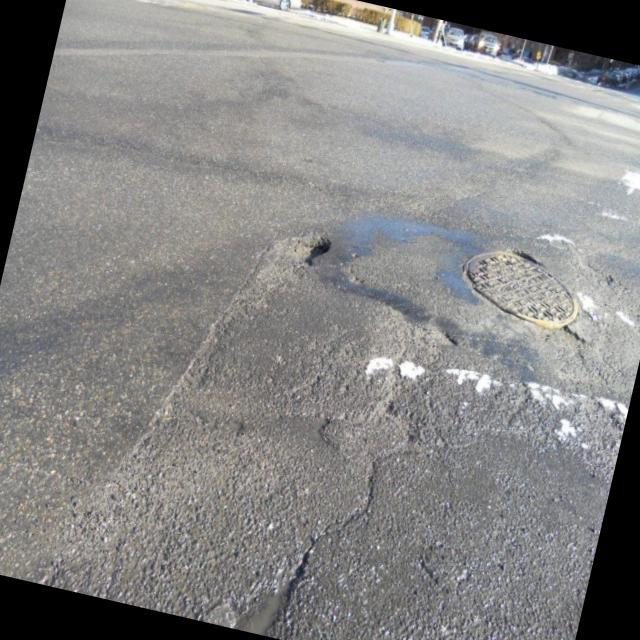Pothole: (444, 230, 599, 344), (216, 522, 339, 640), (270, 212, 336, 274)
